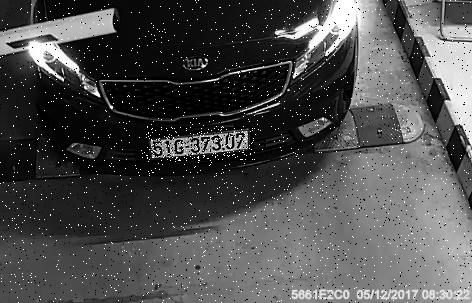License-plate: (148, 128, 257, 162)
